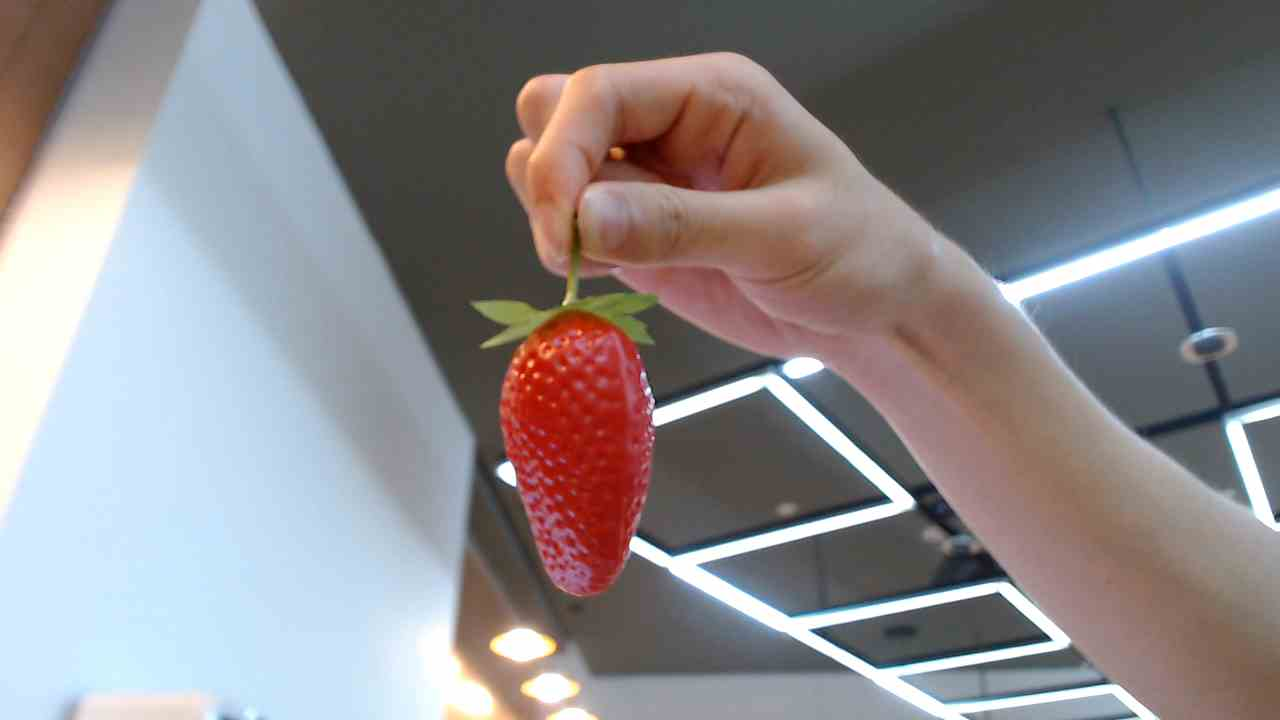strawberry: (493, 304, 686, 606)
